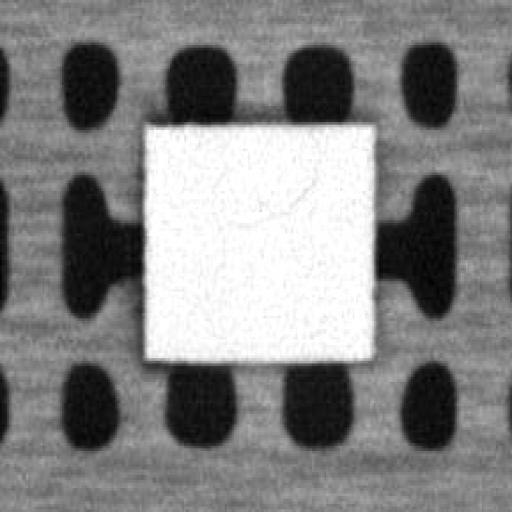DIE_CRACK: (223, 162, 319, 223)
